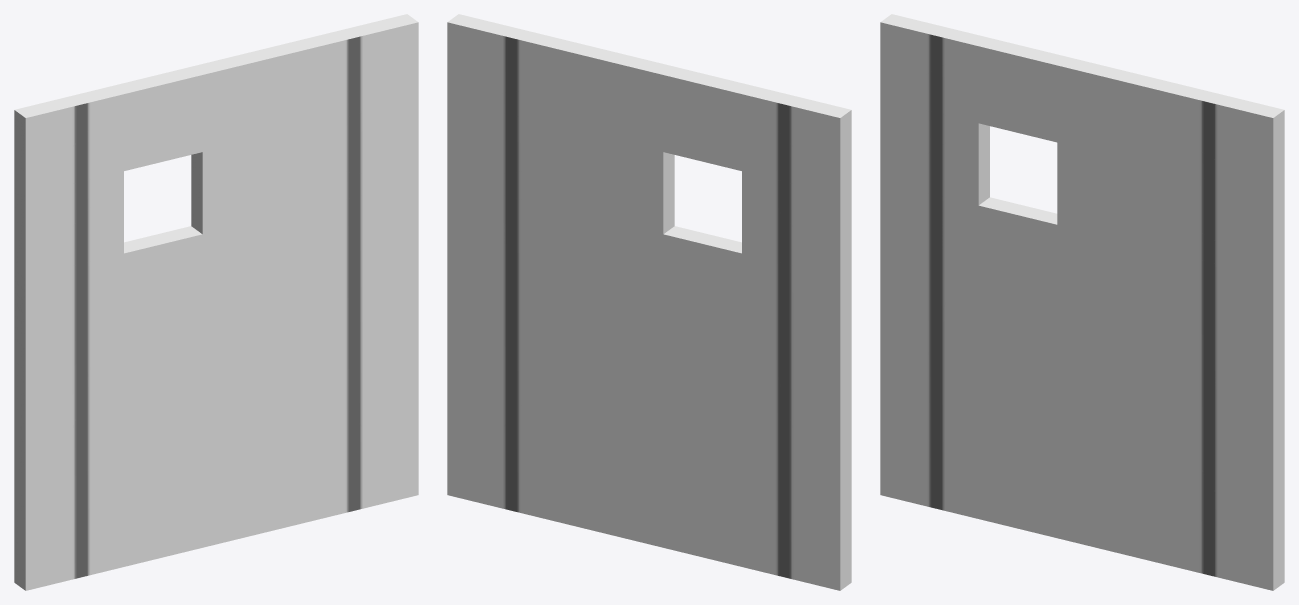
Rendered from SM_WallWithHole_Var1_200x230.fbx.
3 views of the same model, side by side, from view 1: azimuth 30°, elevation 25°; view 2: azimuth 150°, elevation 25°; view 3: azimuth 330°, elevation 25° (orthographic).
Parts seen in each view (by area): view 1: WallWithHole_Var1_200x230; view 2: WallWithHole_Var1_200x230; view 3: WallWithHole_Var1_200x230.
Part boxes in pixels (box(x1,y1,x2,y2)): WallWithHole_Var1_200x230: box(14, 14, 418, 590); WallWithHole_Var1_200x230: box(447, 14, 851, 590); WallWithHole_Var1_200x230: box(880, 14, 1284, 590).
Size of the model in its own units: 200 by 230 by 10.
